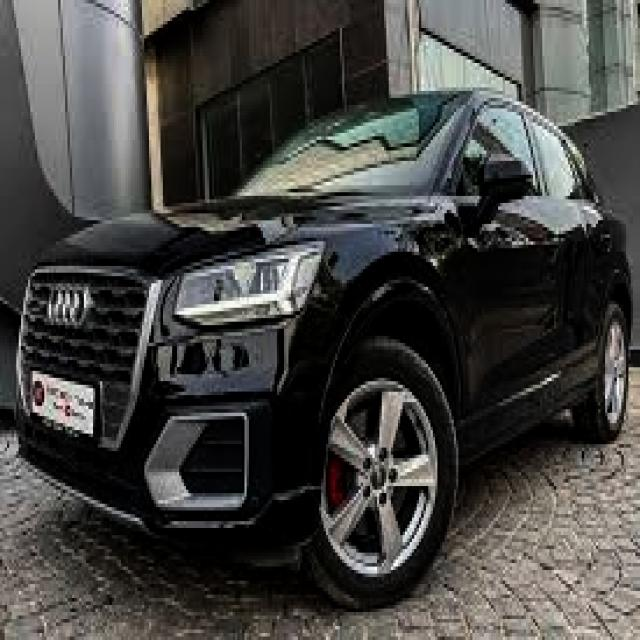black: (16, 87, 640, 563)
